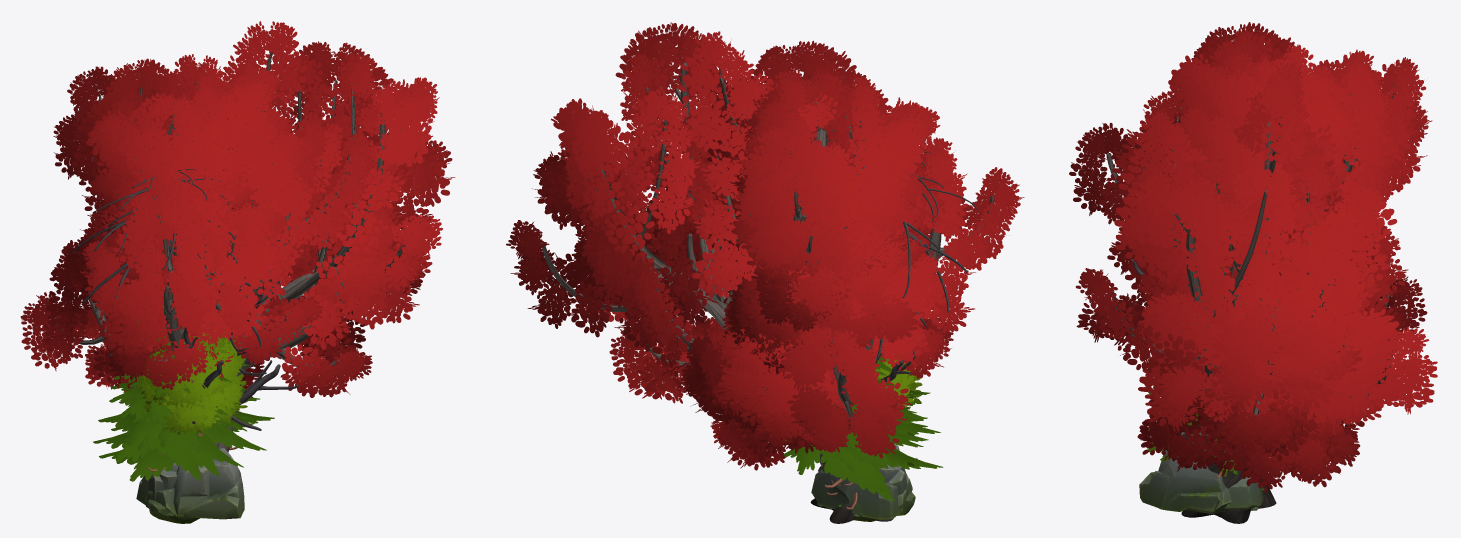
The model's file is nature.glb.
3 views of the same model, side by side, from view 1: azimuth 30°, elevation 25°; view 2: azimuth 150°, elevation 25°; view 3: azimuth 270°, elevation 25° (orthographic). The views are drawn at different scales.
Visible parts, largest first — view 1: TwistedTree_3, TwistedTree_1, TwistedTree_5, Rock_Medium_3, Pine_2, Pine_5, Pine_4, CommonTree_3, CommonTree_1, CommonTree_2, Rock_Medium_1, DeadTree_1 (+2 smaller); view 2: TwistedTree_1, TwistedTree_3, TwistedTree_5, Pine_5, Rock_Medium_2, Pine_2, DeadTree_3, Pine_4; view 3: TwistedTree_1, TwistedTree_3, TwistedTree_5, Rock_Medium_3, Rock_Medium_2.
Part boxes in pixels (left/top/right/bottom): TwistedTree_3: left=20, top=54, right=377, bottom=397; TwistedTree_1: left=106, top=21, right=455, bottom=508; TwistedTree_5: left=60, top=58, right=330, bottom=303; Rock_Medium_3: left=148, top=447, right=244, bottom=523; Pine_2: left=99, top=374, right=254, bottom=481; Pine_5: left=93, top=349, right=274, bottom=476; Pine_4: left=98, top=253, right=249, bottom=471; CommonTree_3: left=145, top=299, right=245, bottom=411; CommonTree_1: left=139, top=335, right=248, bottom=434; CommonTree_2: left=137, top=330, right=246, bottom=436; Rock_Medium_1: left=145, top=465, right=209, bottom=516; DeadTree_1: left=109, top=271, right=298, bottom=430; TwistedTree_1: left=506, top=22, right=929, bottom=523; TwistedTree_3: left=678, top=40, right=1024, bottom=470; TwistedTree_5: left=706, top=67, right=949, bottom=378; Pine_5: left=785, top=357, right=932, bottom=493; Rock_Medium_2: left=811, top=464, right=903, bottom=519; Pine_2: left=780, top=377, right=943, bottom=501; DeadTree_3: left=804, top=145, right=976, bottom=359; Pine_4: left=820, top=360, right=940, bottom=509; TwistedTree_1: left=1075, top=62, right=1437, bottom=523; TwistedTree_3: left=1069, top=28, right=1432, bottom=480; TwistedTree_5: left=1133, top=22, right=1426, bottom=319; Rock_Medium_3: left=1139, top=450, right=1225, bottom=511; Rock_Medium_2: left=1224, top=477, right=1262, bottom=509.
Size of the model in its own units: 15.83 by 16.86 by 11.71.
Materials: 12 (12 with a texture image).
